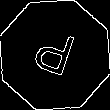P_S: (29, 25, 81, 85)
